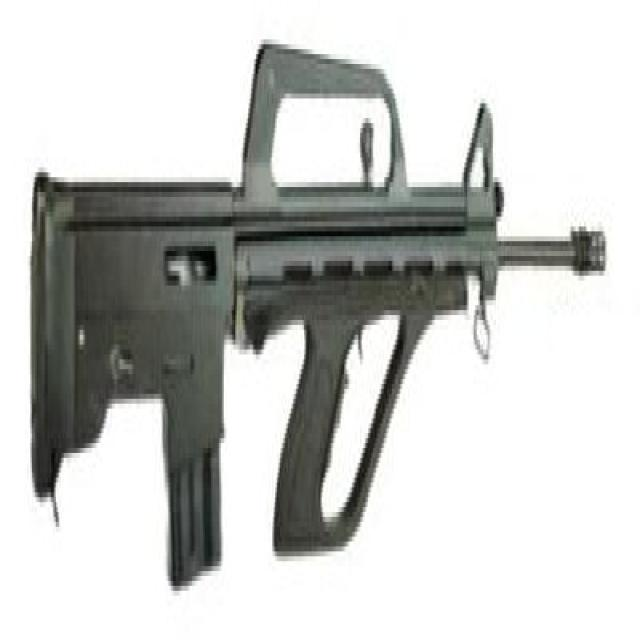rifle: (23, 19, 612, 611)
